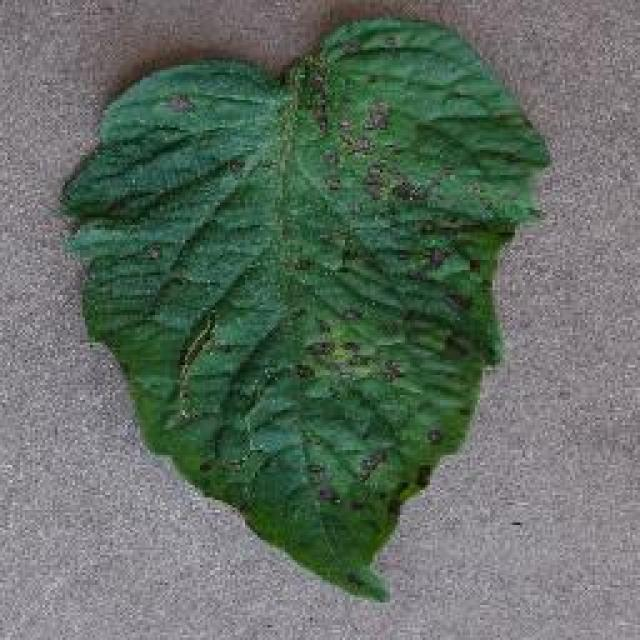Tomato___Early_blight: (52, 18, 557, 610)
